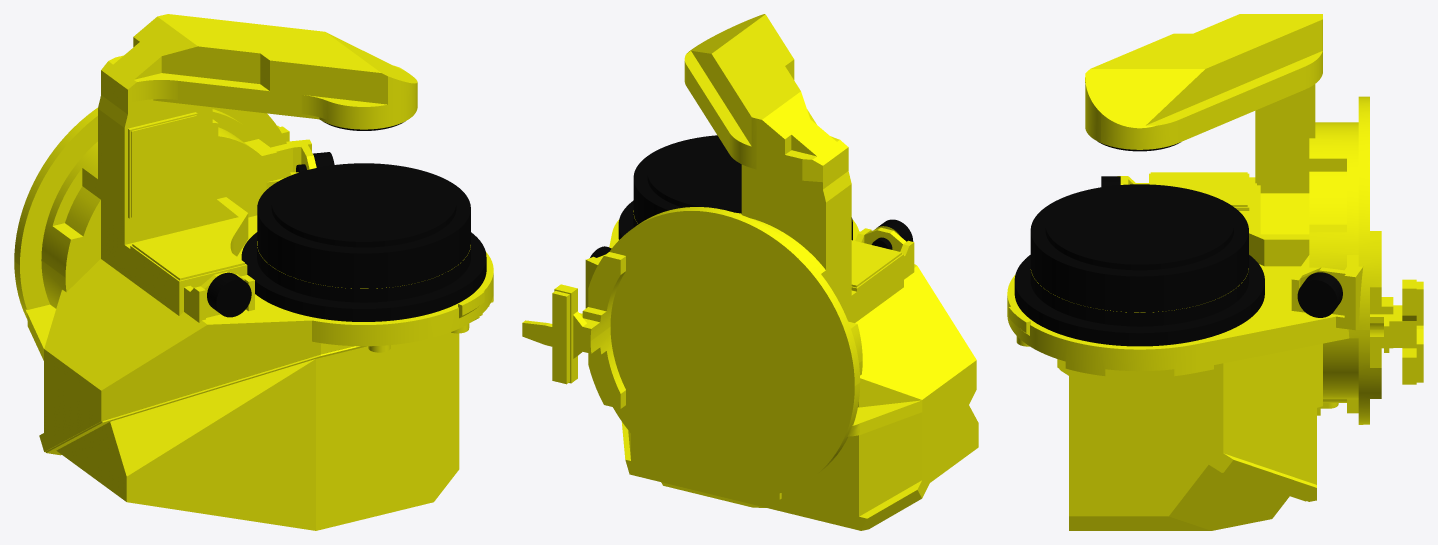
3 views of the same model, side by side, from view 1: azimuth 30°, elevation 25°; view 2: azimuth 150°, elevation 25°; view 3: azimuth 270°, elevation 25° (orthographic). The views are drawn at different scales.
Parts seen in each view (by area): view 1: Mesh_0; view 2: Mesh_0; view 3: Mesh_0.
Part boxes in pixels (x1,y1,x2,y2): Mesh_0: (14,14,493,530); Mesh_0: (522,14,978,530); Mesh_0: (1007,14,1423,530).
Size of the model in its own units: 0.566 by 0.6319 by 0.5405.
